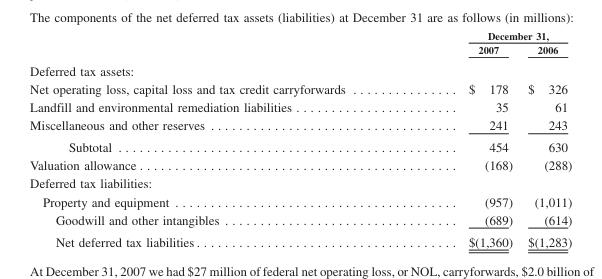table: (29, 28, 571, 248)
table column: (29, 28, 406, 248), (406, 28, 519, 248), (519, 28, 571, 248)
table column header: (29, 28, 571, 59)
table projected row header: (29, 59, 571, 79), (29, 173, 571, 192)
table row: (29, 59, 571, 79), (29, 115, 571, 135), (29, 135, 571, 155), (29, 210, 571, 230), (29, 173, 571, 192), (29, 79, 571, 97), (29, 97, 571, 115), (29, 155, 571, 173), (29, 192, 571, 210), (29, 230, 571, 248), (29, 42, 571, 59), (29, 28, 571, 42)
table spanning cell: (406, 28, 571, 42)
